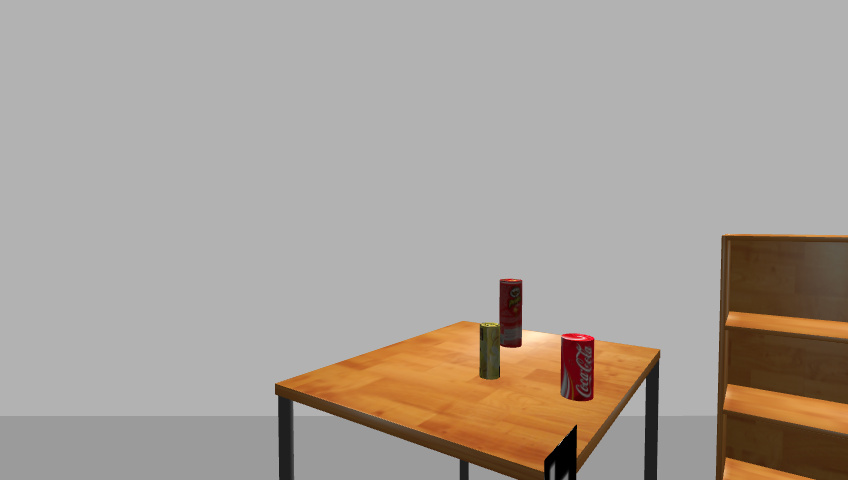aruco marker: (541, 426, 581, 480)
biscuits pack: (478, 323, 502, 381)
bookshelf: (713, 234, 848, 479)
coke can: (559, 334, 597, 402)
dinner table: (267, 321, 668, 480)
pringles can: (497, 277, 525, 350)
